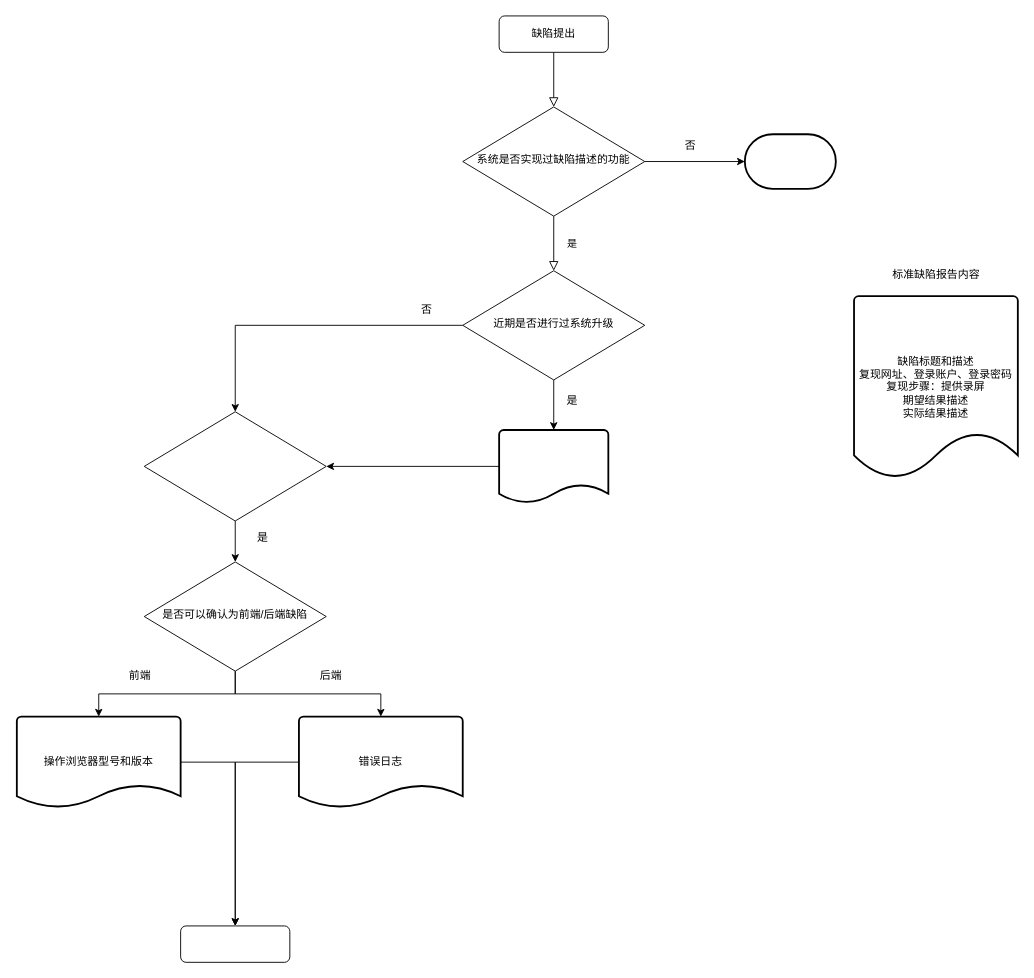
Image size: 1034x978. Some labels were removed from this diagram. The box of each missing label's shape, as (x1, y1, x2, y2) in pixels:
当前软件版本: (498, 429, 609, 503)
提报需求: (743, 133, 836, 189)
是否可以复现bug: (143, 411, 326, 521)
研发人员解决缺陷: (180, 925, 290, 962)
